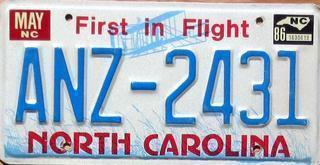placa de veiculo: (4, 3, 316, 162)
